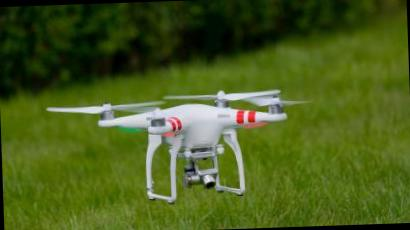drone: (62, 76, 332, 181)
